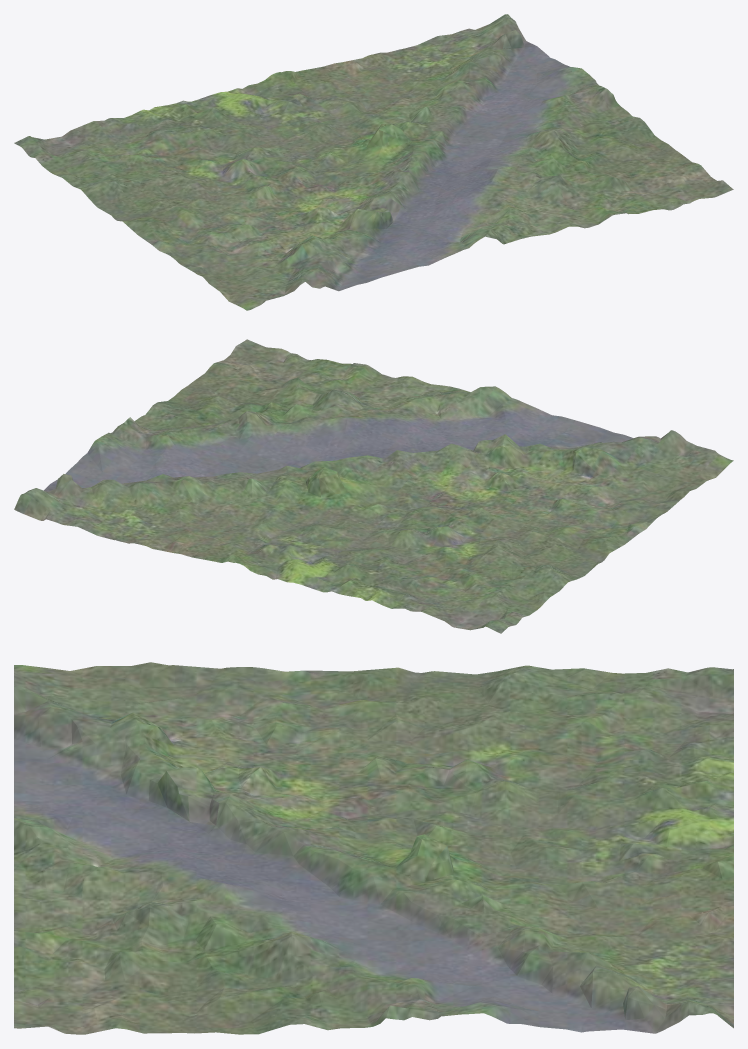
File: Tile_+000_+007_L20_000010t1.glb
3 views of the same model, one above another, from view 1: azimuth 30°, elevation 25°; view 2: azimuth 150°, elevation 25°; view 3: azimuth 270°, elevation 25° (orthographic). The views are drawn at different scales.
Visible parts, largest first — view 1: rtc; view 2: rtc; view 3: rtc.
Part boxes in pixels (box(x1,y1,x2,y2)): rtc: box(14, 14, 733, 310); rtc: box(14, 339, 733, 633); rtc: box(14, 662, 733, 1034).
Bounding box in the file's own units: 30.48 × 1.8 × 25.25.
1 material, 1 textured.
